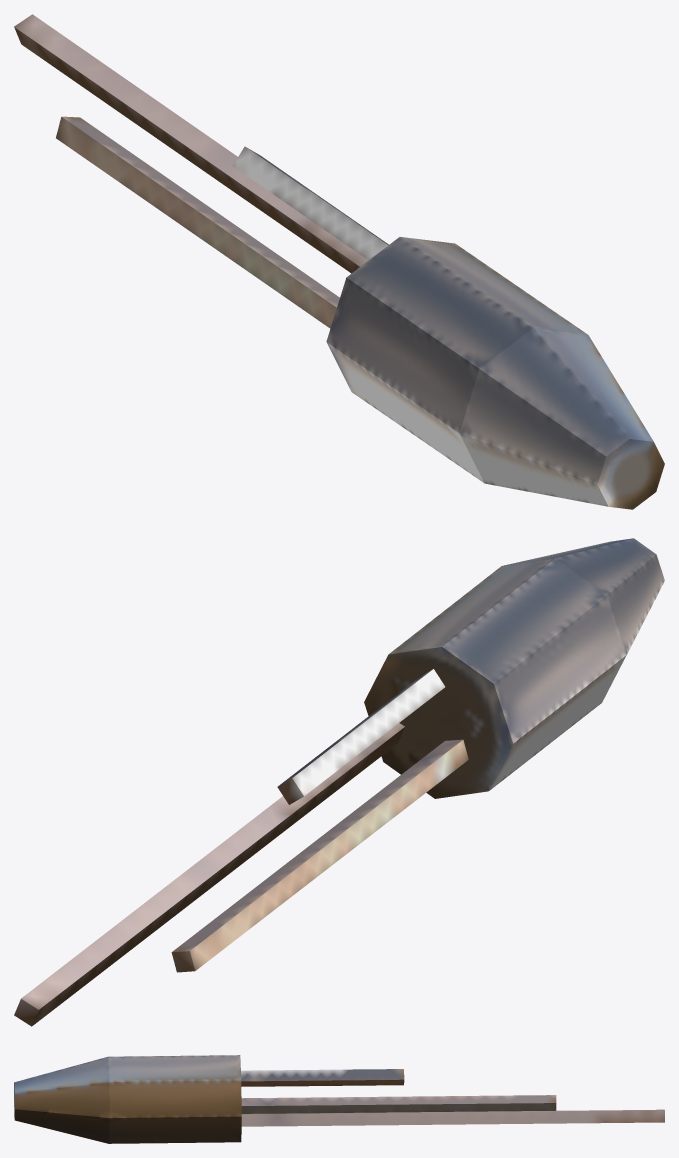
3 renders of one model, top to bottom at view 1: azimuth 30°, elevation 25°; view 2: azimuth 150°, elevation 25°; view 3: azimuth 270°, elevation 25°, orthographic. The views are drawn at different scales.
Visible parts, largest first — view 1: Bala_Cylinder.003, Estela_1_Cube.006, Estela_3_Cube.008, Estela_2_Cube.007; view 2: Bala_Cylinder.003, Estela_1_Cube.006, Estela_3_Cube.008, Estela_2_Cube.007; view 3: Bala_Cylinder.003, Estela_1_Cube.006, Estela_3_Cube.008, Estela_2_Cube.007.
Part boxes in pixels (x1=…): Bala_Cylinder.003: x1=326, y1=237, x2=664, y2=509; Estela_1_Cube.006: x1=14, y1=14, x2=368, y2=273; Estela_3_Cube.008: x1=56, y1=116, x2=339, y2=328; Estela_2_Cube.007: x1=233, y1=146, x2=388, y2=260; Bala_Cylinder.003: x1=364, y1=538, x2=664, y2=798; Estela_1_Cube.006: x1=14, y1=723, x2=404, y2=1026; Estela_3_Cube.008: x1=171, y1=739, x2=468, y2=972; Estela_2_Cube.007: x1=277, y1=669, x2=445, y2=804; Bala_Cylinder.003: x1=14, y1=1055, x2=241, y2=1143; Estela_1_Cube.006: x1=241, y1=1109, x2=664, y2=1126; Estela_3_Cube.008: x1=241, y1=1095, x2=556, y2=1113; Estela_2_Cube.007: x1=241, y1=1069, x2=404, y2=1086.
Size of what is drawn, in the model's own units: 0.2911 by 0.2802 by 1.94.
